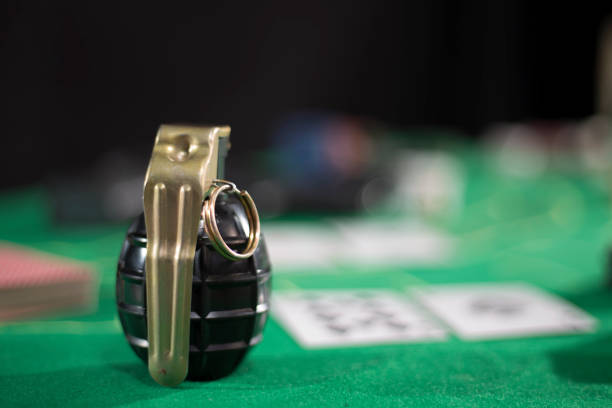e1: (114, 125, 271, 383)
